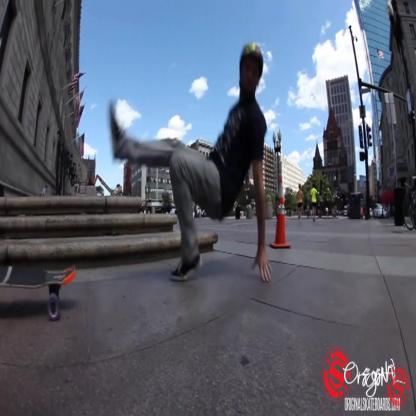Fall_Down: (108, 39, 274, 285)
